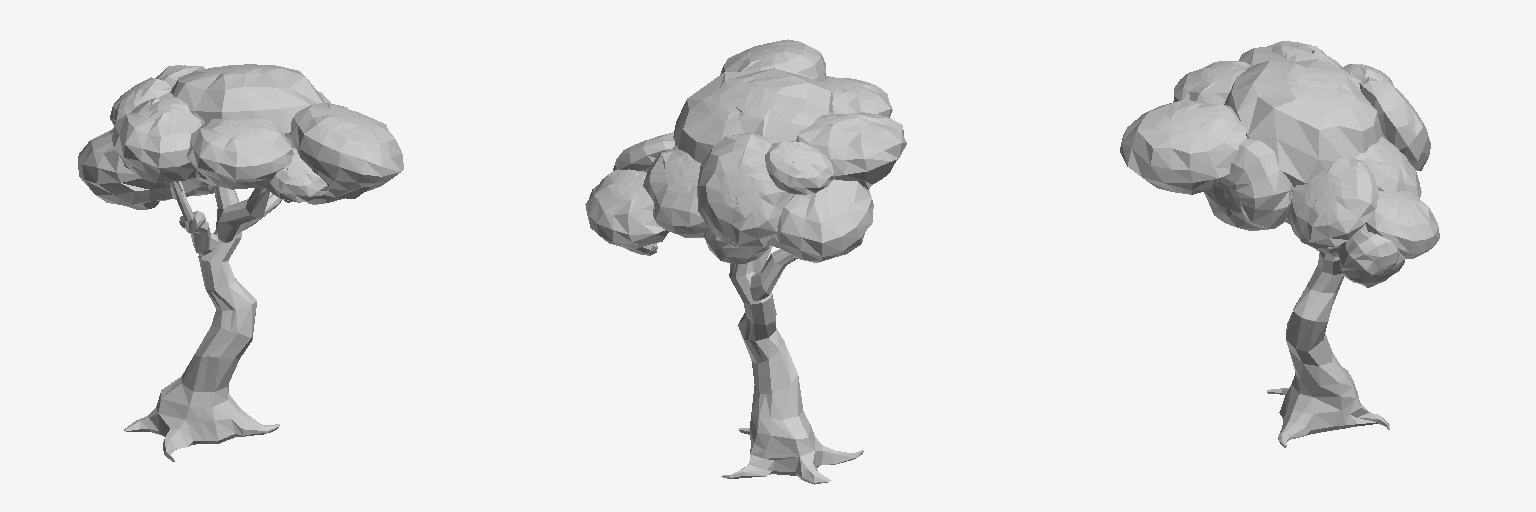
File: tree_1_a.obj
3 renders of one model, left to right at view 1: azimuth 30°, elevation 25°; view 2: azimuth 150°, elevation 25°; view 3: azimuth 270°, elevation 25°, orthographic.
Visible parts, largest first — view 1: crown_1_a_roads_material, trunk_1_a_roads_material; view 2: crown_1_a_roads_material, trunk_1_a_roads_material; view 3: crown_1_a_roads_material, trunk_1_a_roads_material.
Part boxes in pixels (bbox=[...]): crown_1_a_roads_material: bbox=[78, 64, 403, 209]; trunk_1_a_roads_material: bbox=[124, 181, 281, 461]; crown_1_a_roads_material: bbox=[585, 39, 906, 263]; trunk_1_a_roads_material: bbox=[678, 233, 863, 484]; crown_1_a_roads_material: bbox=[1120, 41, 1439, 287]; trunk_1_a_roads_material: bbox=[1267, 218, 1389, 447].
Size of the model in its own units: 4.06 by 5.28 by 4.24.